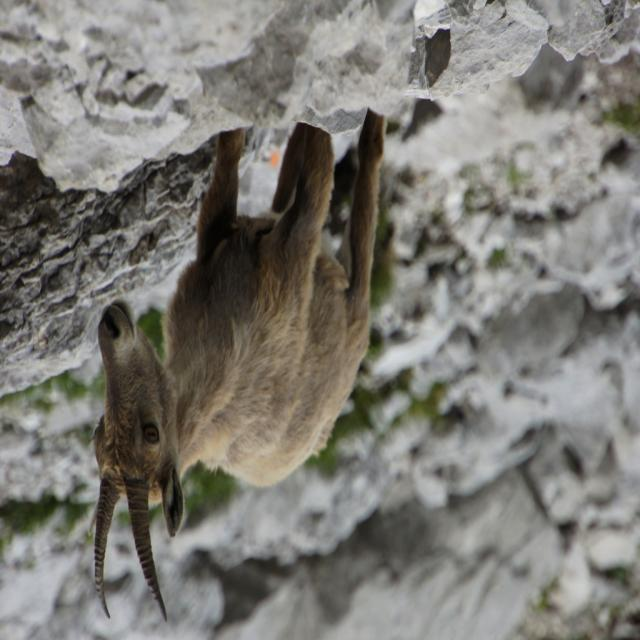Goat: (87, 111, 387, 624)
